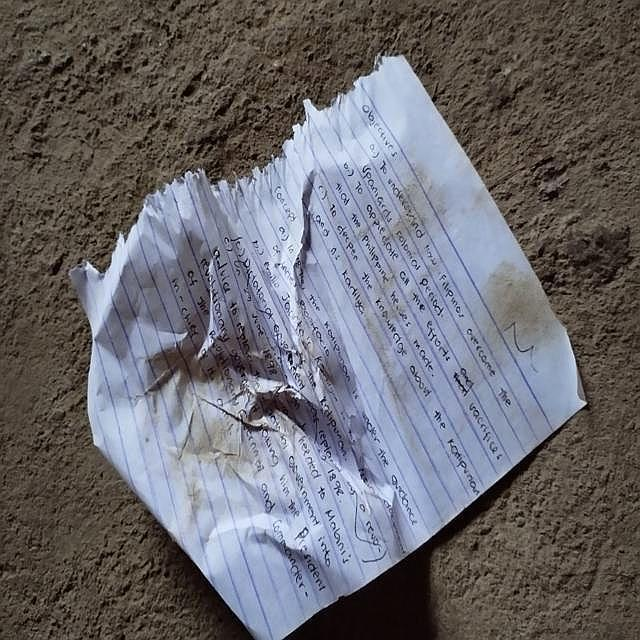Biodegradable: (1, 40, 616, 640)
